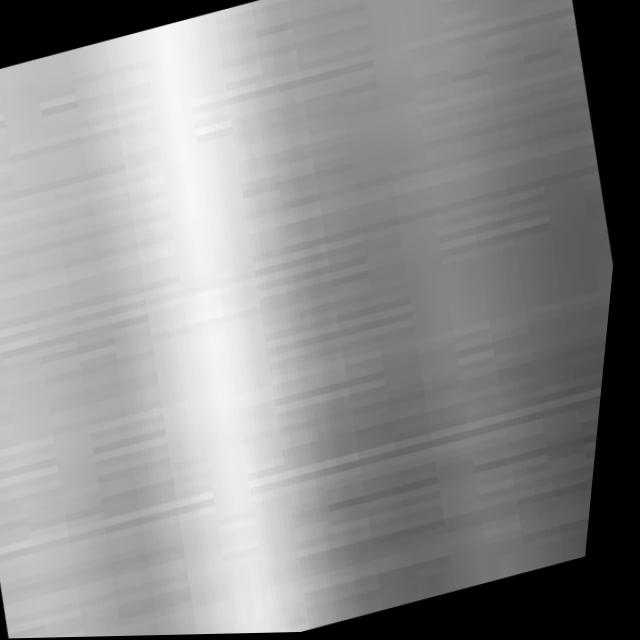metal-plates: (1, 1, 620, 640)
